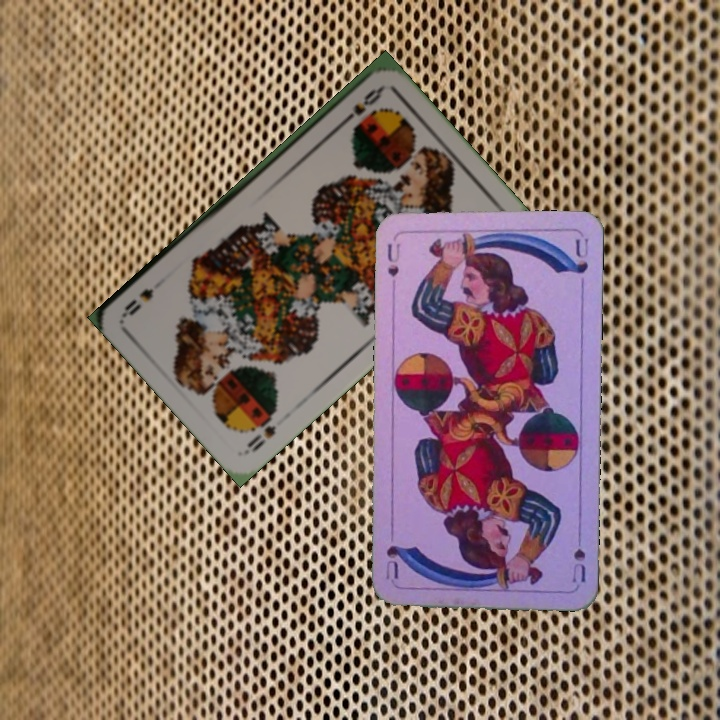SO: (337, 83, 386, 128), (241, 413, 279, 456)
SU: (568, 526, 588, 585), (383, 233, 403, 279)
